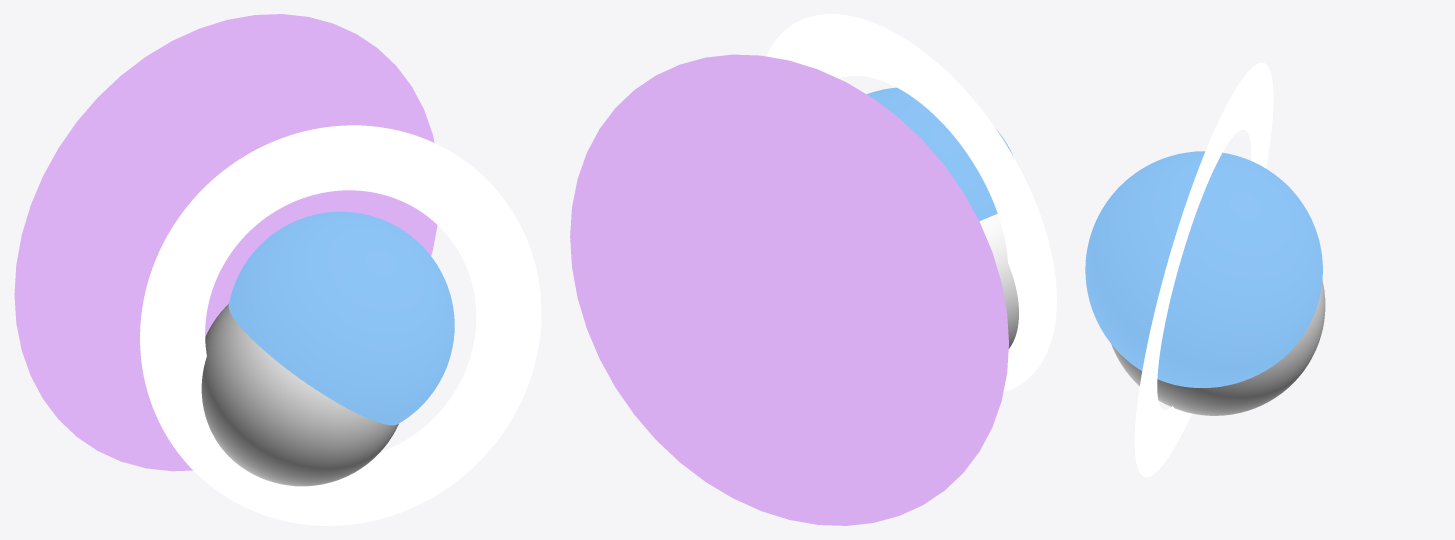
File: planete.glb
The picture shows the model from 3 angles, left to right: view 1: azimuth 30°, elevation 25°; view 2: azimuth 150°, elevation 25°; view 3: azimuth 270°, elevation 25°; orthographic projection. The views are drawn at different scales.
Visible parts, largest first — view 1: lueur, anneaux, atmosphere, globe; view 2: lueur, anneaux, atmosphere, globe; view 3: atmosphere, anneaux, globe.
Part boxes in pixels (box(x1,y1,x2,y2)): lueur: box(14, 14, 437, 471); anneaux: box(140, 125, 541, 525); atmosphere: box(228, 211, 454, 425); globe: box(201, 304, 398, 486); lueur: box(570, 54, 1008, 525); anneaux: box(766, 14, 1056, 392); atmosphere: box(867, 87, 1012, 221); globe: box(979, 213, 1018, 348); atmosphere: box(1085, 151, 1322, 387); anneaux: box(1134, 62, 1273, 477); globe: box(1111, 280, 1325, 415).
Size of the model in its own units: 4.4 by 4.4 by 3.05.
